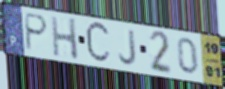0: (176, 36, 201, 77)
2: (147, 29, 173, 75)
C: (84, 20, 113, 66)
H: (49, 15, 81, 62)
J: (117, 28, 138, 67)
P: (24, 11, 50, 53)
